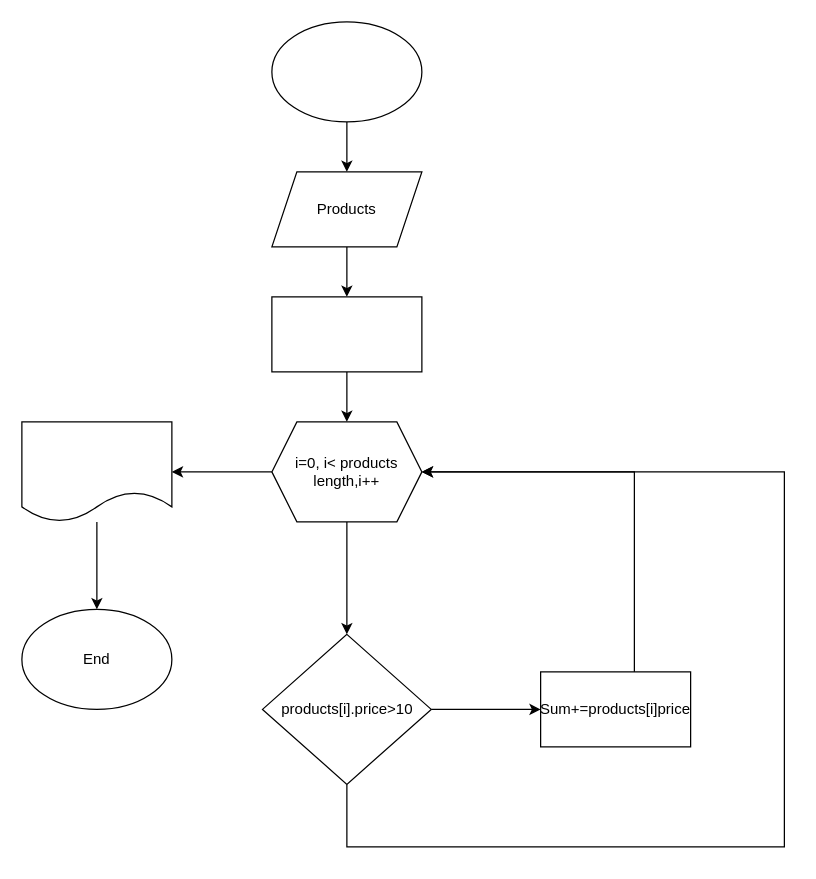
Image size: 816x879. Some labels were removed from this diagram. Each missing label, with the centre of its shape:
Start: the point at 346,71
Sum: the point at 96,471
Sum=0: the point at 346,334
